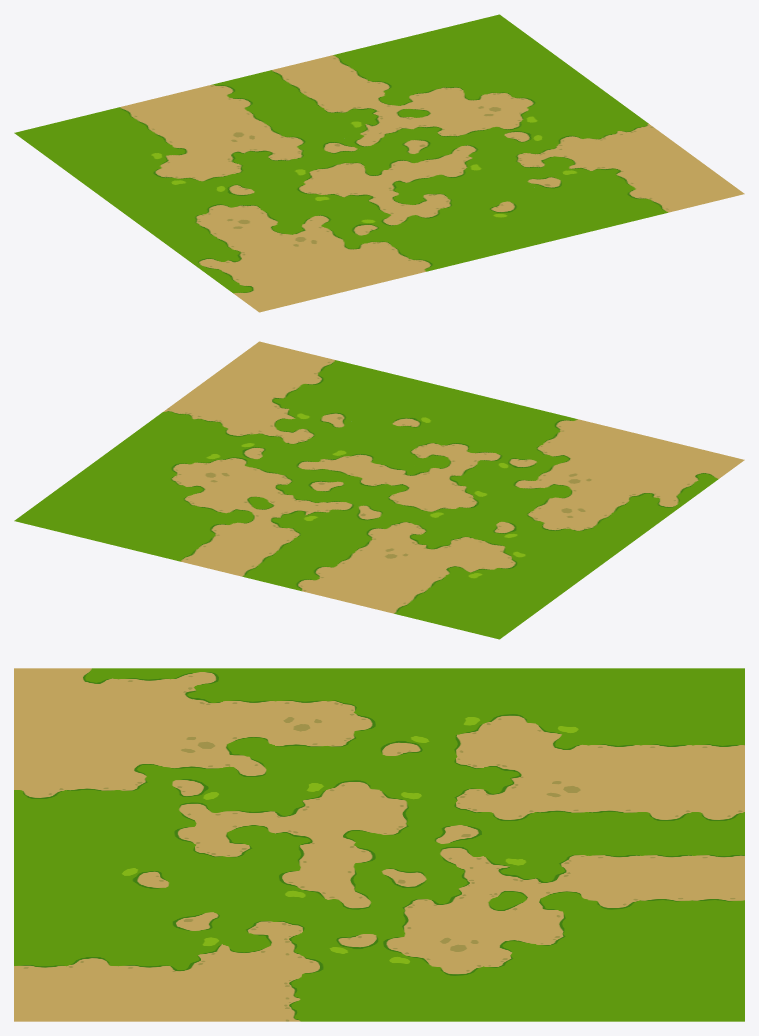
File: Stage.FBX
The picture shows the model from 3 angles, top to bottom: view 1: azimuth 30°, elevation 25°; view 2: azimuth 150°, elevation 25°; view 3: azimuth 270°, elevation 25°; orthographic projection. The views are drawn at different scales.
Visible parts, largest first — view 1: Stage; view 2: Stage; view 3: Stage.
Part boxes in pixels (x1,y1,x2,y2): Stage: [14, 14, 744, 312]; Stage: [14, 341, 744, 639]; Stage: [14, 668, 744, 1021].
Size of what is drawn, in the model's own units: 64 by 1.55e-06 by 56.
